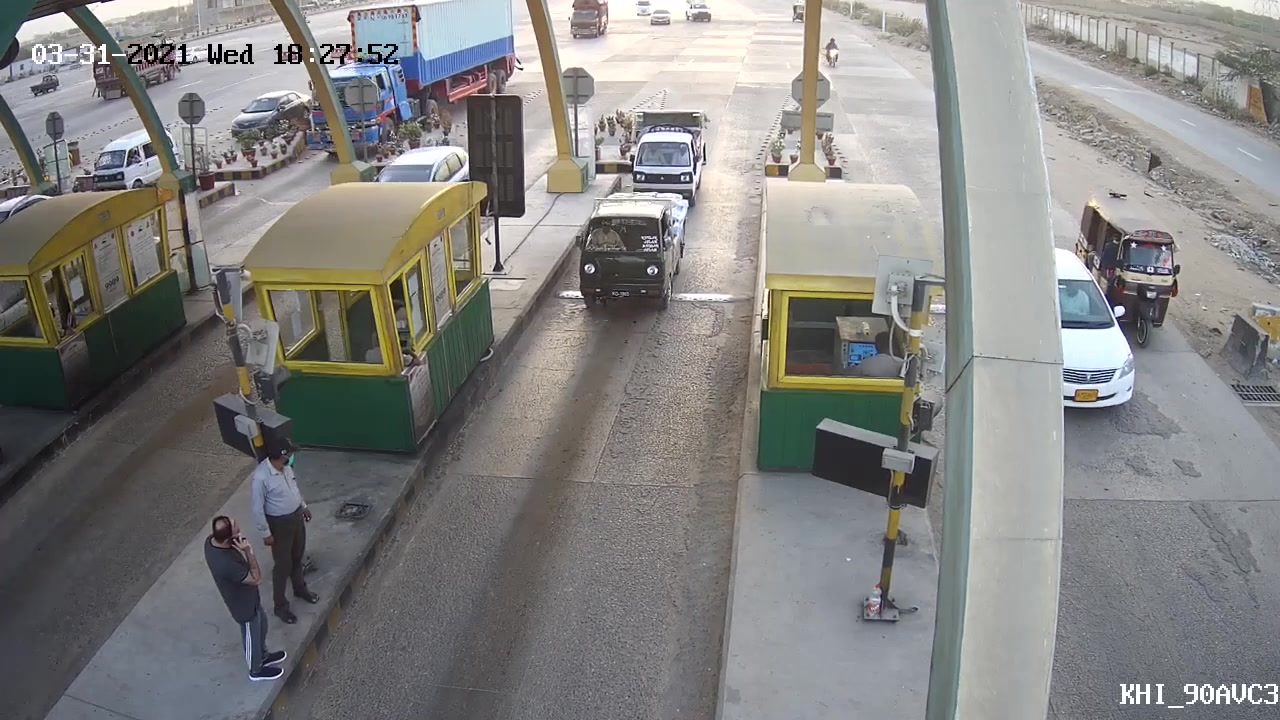F2: (563, 186, 699, 316)
